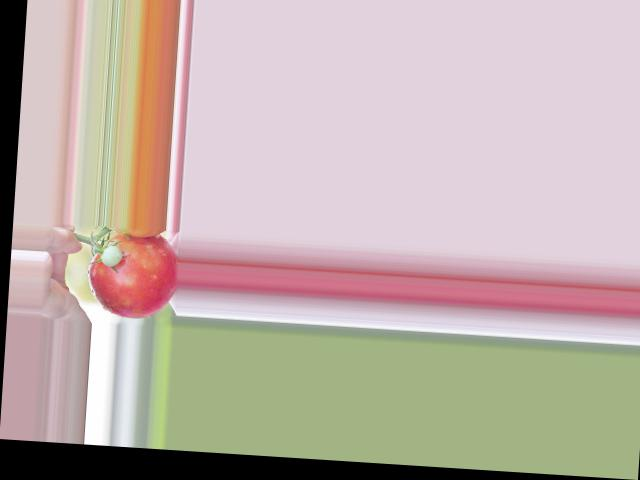tomato: (85, 230, 181, 320)
